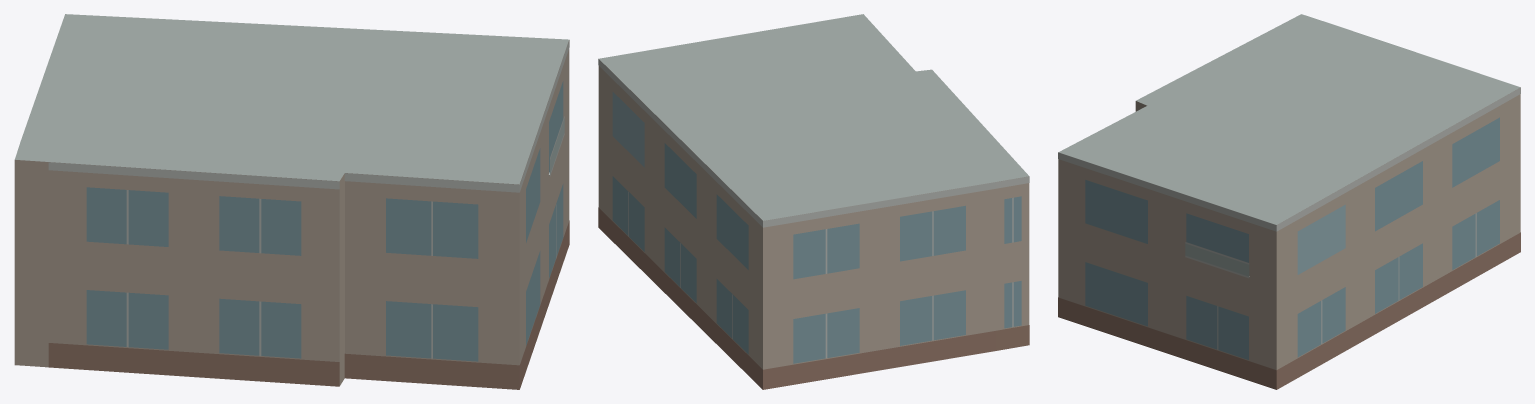
The model's file is survey-upis-33042907.glb.
3 views of the same model, side by side, from view 1: azimuth 30°, elevation 25°; view 2: azimuth 150°, elevation 25°; view 3: azimuth 270°, elevation 25° (orthographic). The views are drawn at different scales.
Visible parts, largest first — view 1: survey-upis-33042907.tmp; view 2: survey-upis-33042907.tmp; view 3: survey-upis-33042907.tmp.
Boxes of the visible parts, <box> form: survey-upis-33042907.tmp: <box>14,14,569,389</box>; survey-upis-33042907.tmp: <box>598,14,1029,389</box>; survey-upis-33042907.tmp: <box>1058,14,1520,389</box>.
Bounding box in the file's own units: 16.77 × 6.1 × 15.53.
